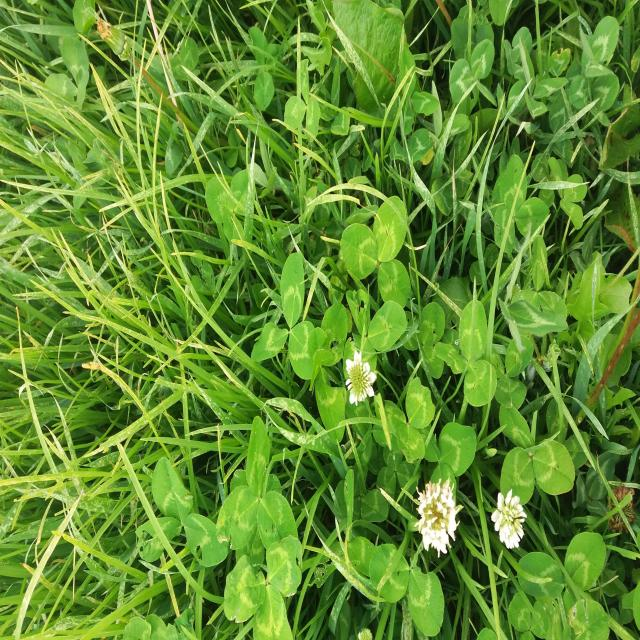Four Leaf Clover: (308, 299, 348, 443)
